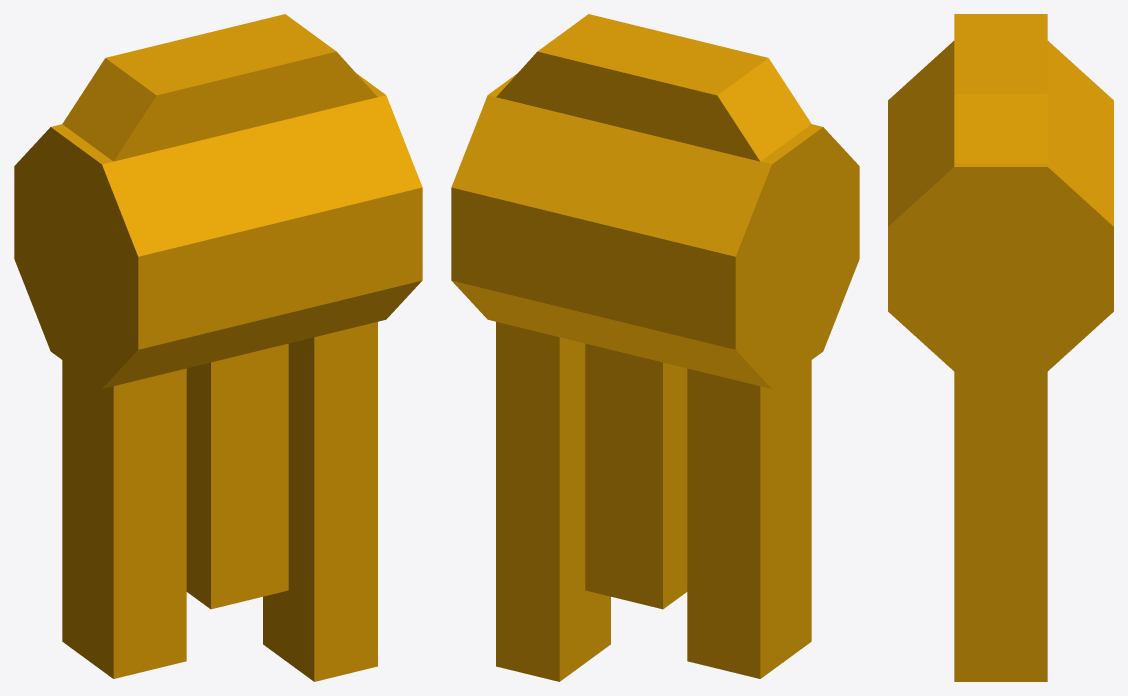
File: KeyTeeth.fbx
3 renders of one model, left to right at view 1: azimuth 30°, elevation 25°; view 2: azimuth 150°, elevation 25°; view 3: azimuth 270°, elevation 25°, orthographic. The views are drawn at different scales.
Parts seen in each view (by area): view 1: KeyTeeth; view 2: KeyTeeth; view 3: KeyTeeth.
Part boxes in pixels (bbox=[...]): KeyTeeth: bbox=[14, 14, 422, 681]; KeyTeeth: bbox=[451, 14, 859, 681]; KeyTeeth: bbox=[888, 14, 1113, 681].
Size of the model in its own units: 83.6 by 176 by 63.09.
